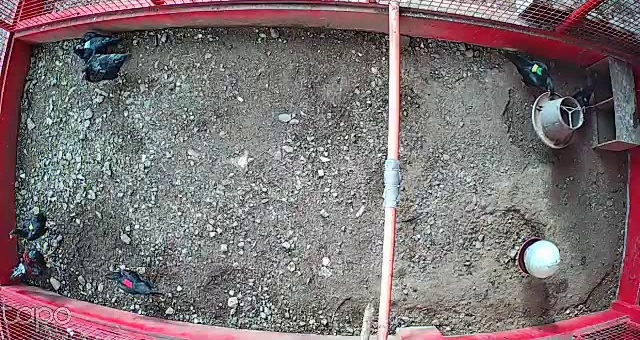Chicken: (504, 40, 562, 101), (6, 209, 59, 248), (105, 264, 163, 299), (83, 52, 137, 85), (569, 68, 605, 113), (71, 33, 124, 61)
Rooster: (5, 248, 60, 294)
Saddle_Color_Red: (123, 278, 133, 287)
Saddle_Color_White: (82, 37, 94, 49)
Saddle_Color_Yellow: (28, 221, 36, 232)
Saddle_Color_YellowGreen: (532, 61, 545, 76)
